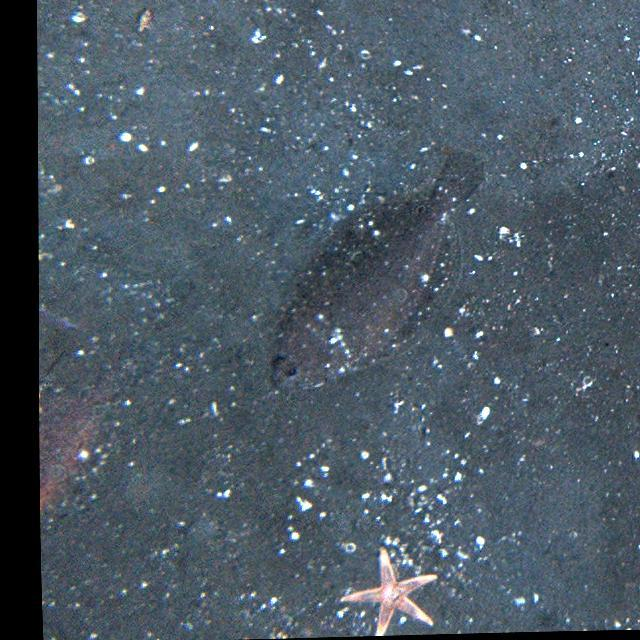flatfish: (264, 141, 491, 391)
